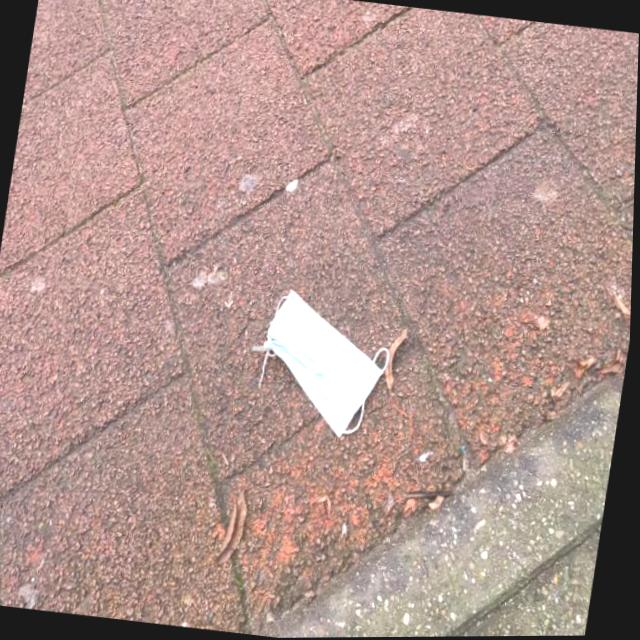Mask: (238, 280, 401, 444)
